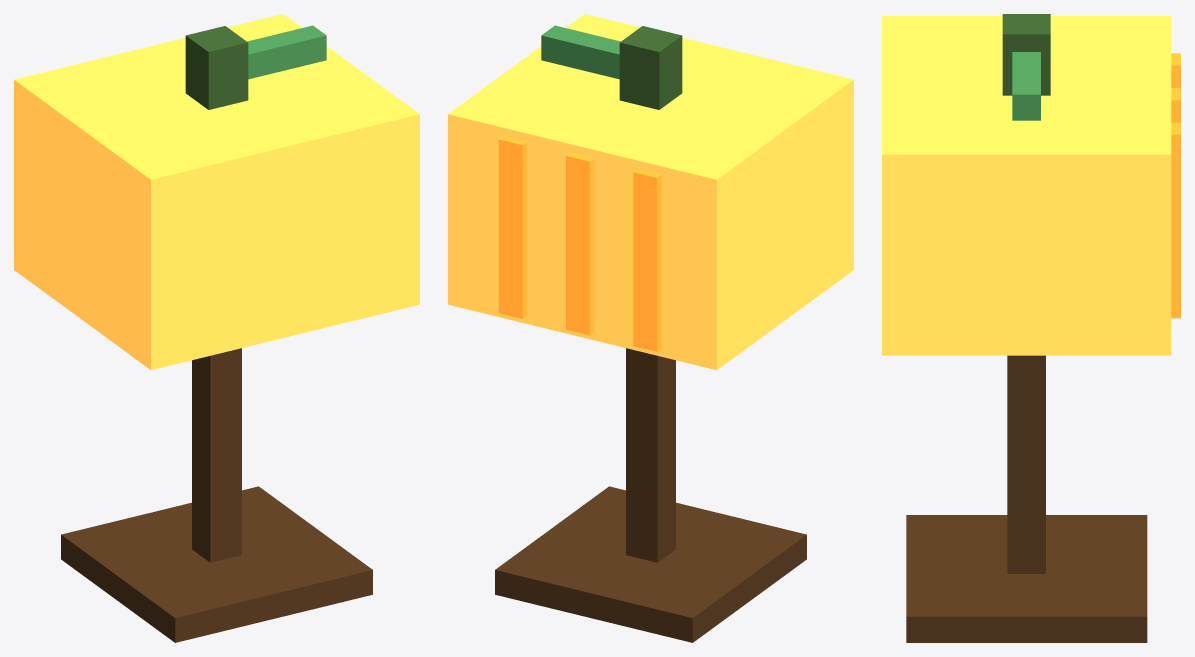
The model's file is ncb-lamp-pumpkin.glb.
3 views of the same model, side by side, from view 1: azimuth 30°, elevation 25°; view 2: azimuth 150°, elevation 25°; view 3: azimuth 270°, elevation 25° (orthographic). The views are drawn at different scales.
Parts seen in each view (by area): view 1: box-prop; view 2: box-prop; view 3: box-prop.
Boxes of the visible parts, x1,y1,x2,y2 form: box-prop: (14, 14, 419, 642); box-prop: (448, 14, 853, 642); box-prop: (882, 14, 1180, 642).
Bounding box in the file's own units: 0.68 × 1.3 × 0.62.
